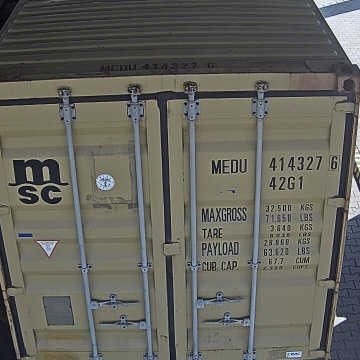serial_id: (211, 156, 339, 174)
